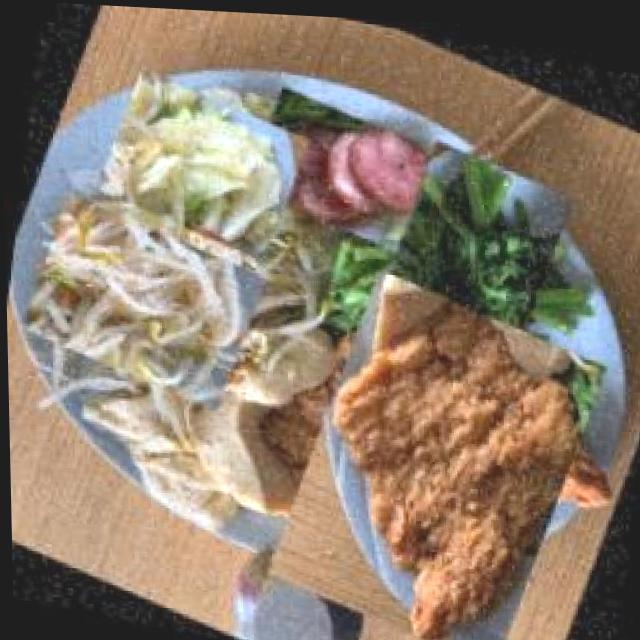chinese_cabbage: (96, 52, 313, 274)
chinese_sausage: (236, 78, 472, 267)
fried_chicken: (239, 262, 634, 640)
mung_bean_sprouts: (8, 183, 275, 417)
water_spinach: (330, 138, 598, 412)
